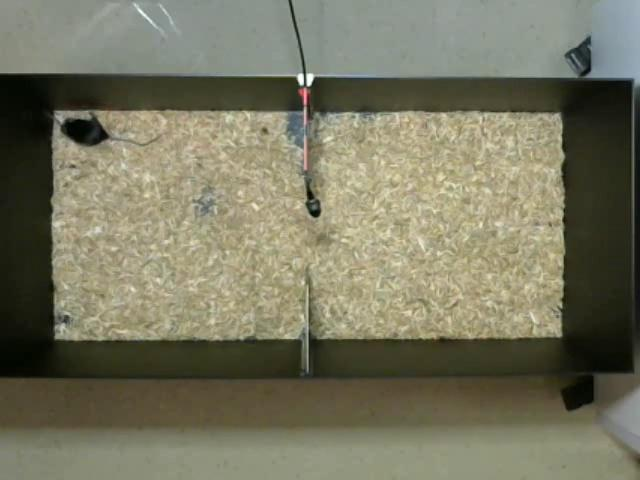rat: (61, 113, 111, 147)
